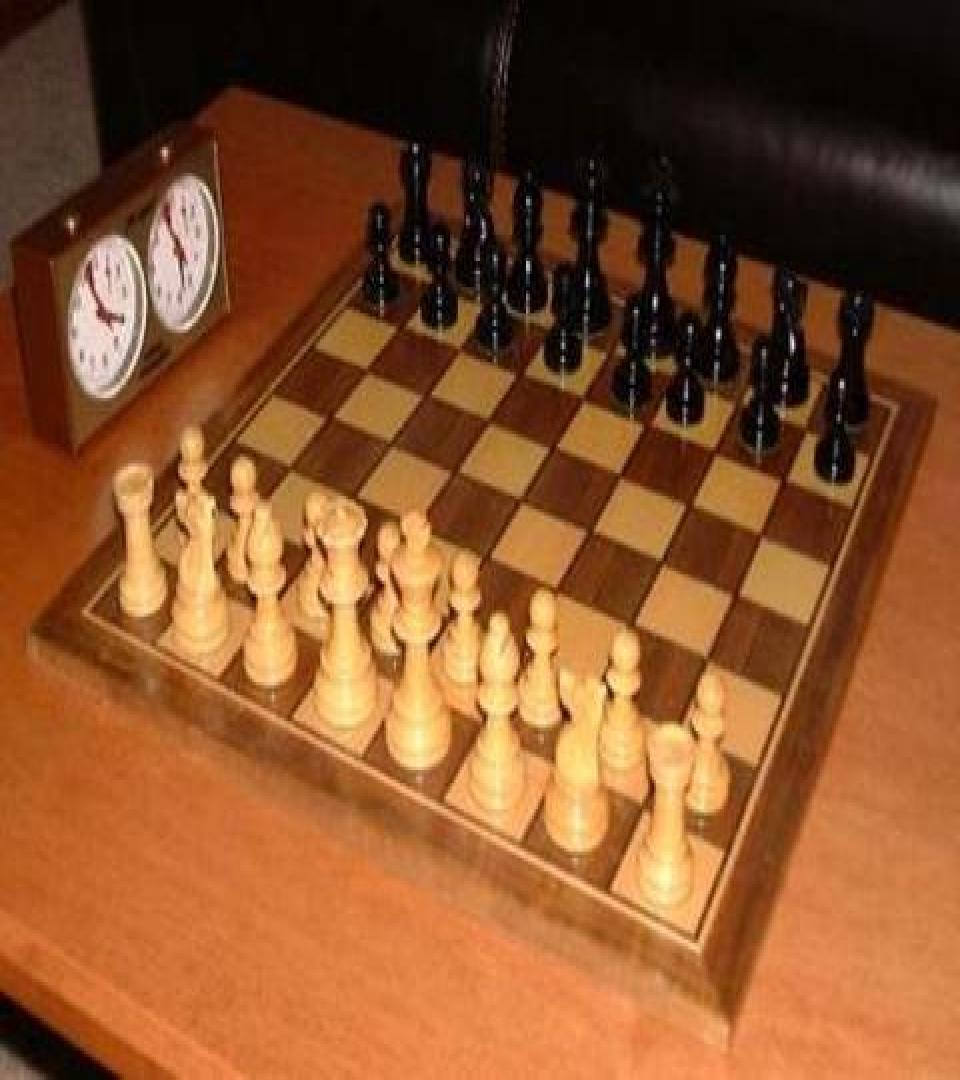xcorner: (397, 310, 417, 343), (362, 354, 382, 387), (325, 401, 345, 434), (241, 507, 261, 540), (194, 566, 214, 599), (486, 290, 506, 323), (386, 429, 406, 462), (347, 481, 367, 514), (305, 538, 325, 571), (260, 600, 280, 633), (544, 313, 564, 346), (515, 357, 535, 390), (483, 406, 503, 439), (412, 512, 432, 545), (372, 571, 392, 604), (329, 636, 349, 669), (577, 383, 597, 416), (547, 432, 567, 465), (514, 486, 534, 519), (479, 543, 499, 576), (442, 605, 462, 638), (667, 362, 687, 395), (582, 517, 602, 550), (514, 641, 534, 674), (475, 711, 495, 744), (732, 388, 752, 421), (707, 437, 727, 470), (681, 491, 701, 524), (653, 548, 673, 581), (623, 610, 643, 643), (553, 752, 573, 785), (799, 414, 819, 447), (753, 520, 773, 553), (699, 646, 719, 679), (668, 716, 688, 749), (429, 268, 449, 300), (284, 452, 304, 484), (455, 333, 475, 365), (421, 379, 441, 411), (449, 457, 469, 489), (605, 338, 625, 370), (400, 674, 420, 706), (641, 410, 661, 442), (613, 462, 633, 494), (550, 576, 570, 608), (590, 679, 610, 711), (776, 467, 796, 499), (727, 581, 747, 613), (635, 795, 655, 827)
